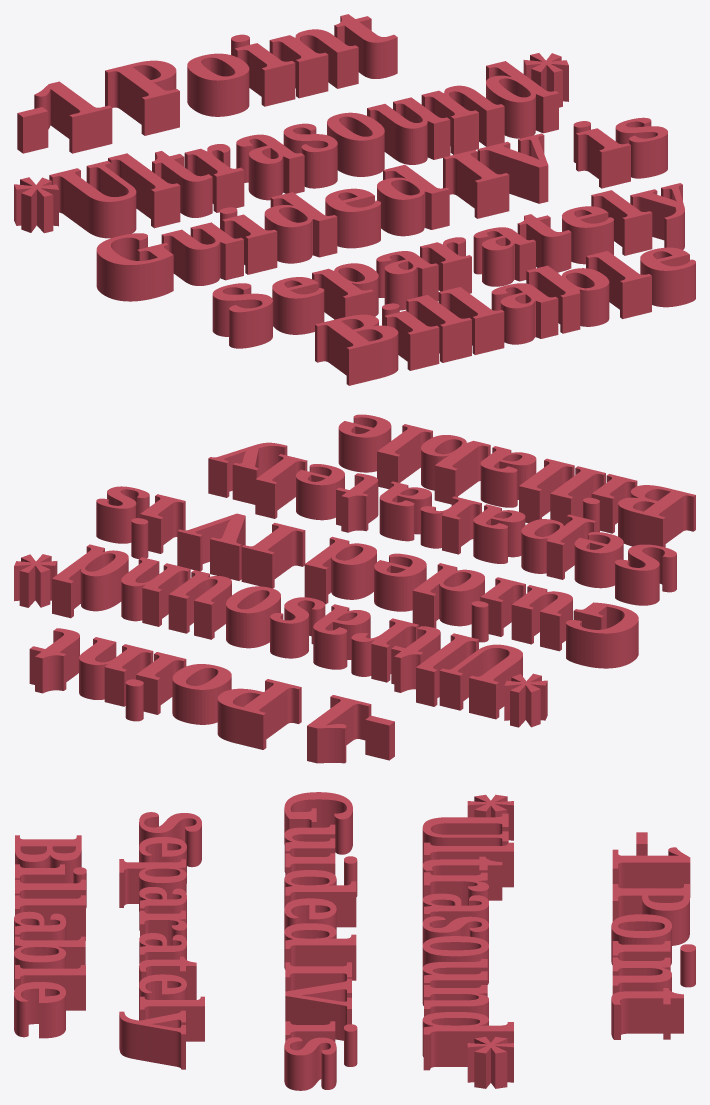
The model's file is neiv.gltf.
3 views of the same model, one above another, from view 1: azimuth 30°, elevation 25°; view 2: azimuth 150°, elevation 25°; view 3: azimuth 270°, elevation 25° (orthographic). The views are drawn at different scales.
Visible parts, largest first — view 1: Mesh_Mesh_head_geo001_lambert2SG001; view 2: Mesh_Mesh_head_geo001_lambert2SG001; view 3: Mesh_Mesh_head_geo001_lambert2SG001.
Part boxes in pixels (box(x1,y1,x2,y2)): Mesh_Mesh_head_geo001_lambert2SG001: box(14, 14, 695, 385); Mesh_Mesh_head_geo001_lambert2SG001: box(14, 414, 695, 763); Mesh_Mesh_head_geo001_lambert2SG001: box(14, 792, 695, 1090).
Bounding box in the file's own units: 160 × 10 × 175.
